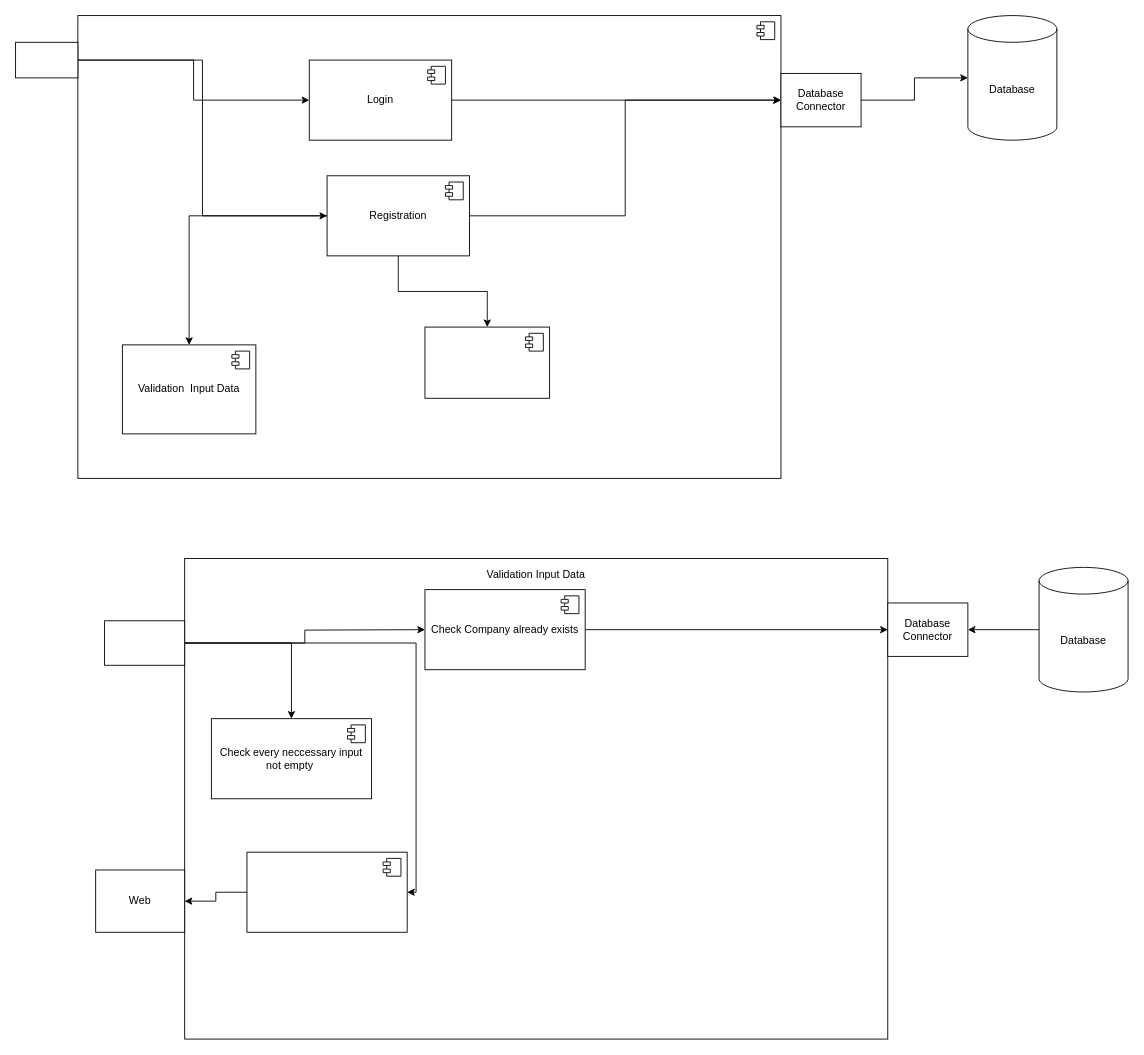
The diagram is 1144 pixels wide and 1055 high, and some of its shapes have lost their labels. The shapes that lost their labels are listed below. From the top down, each one's box as (x1, y1, x2, y2) in pixels, then its label:
(15, 41, 78, 78): Start
(77, 15, 781, 478): Startup
(424, 326, 550, 398): Sava Information Locally/ Temporary
(104, 620, 185, 665): Input Data
(246, 851, 407, 932): Check input possible
